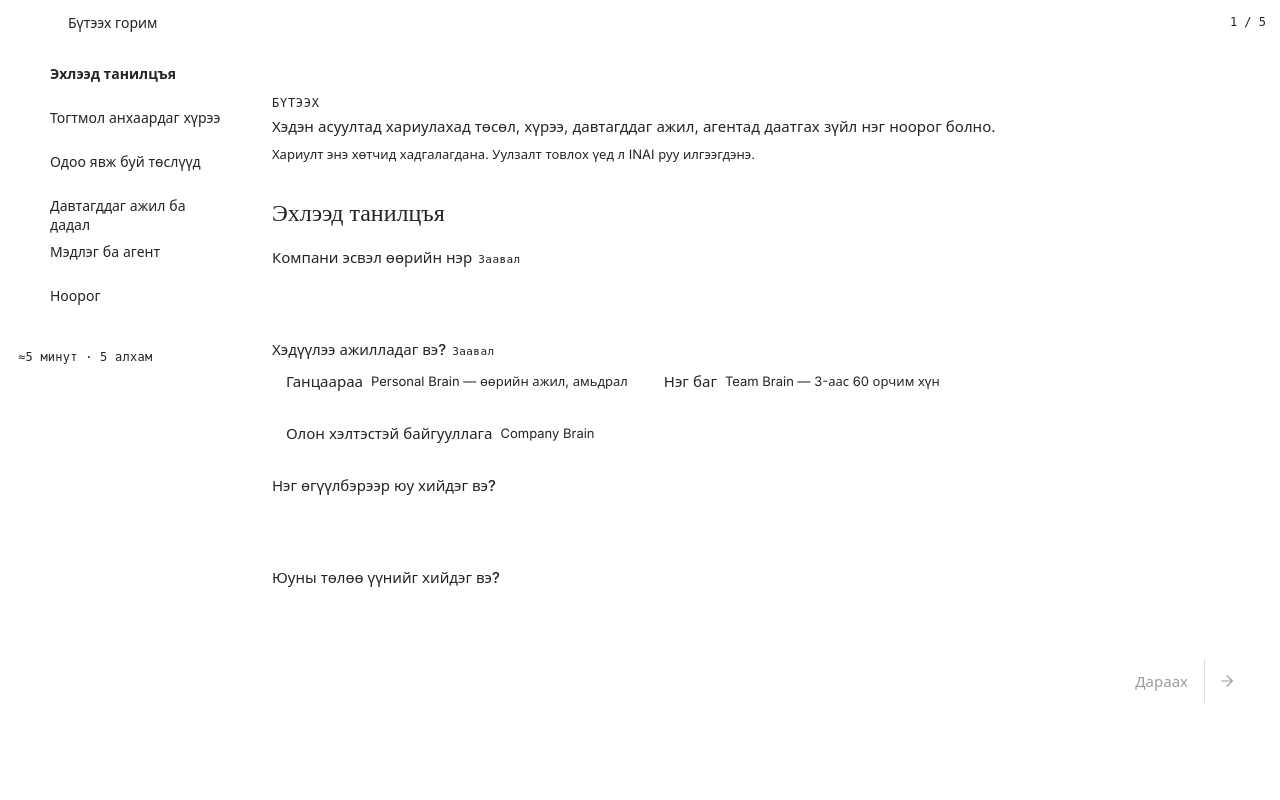
Test: BuildWizard (recipe v05, adaptive) › personal = 5 steps, team and company = 7; the time line follows the segment
The width and height of the screenshot is (1280, 800).
Expected: the text "≈5 минут · 5 алхам" is shown, [18, 350, 152, 364]
Click the radio button labelled "Нэг баг Team Brain — 3-аас 60 орчим хүн".
click(802, 382)  # box [664, 372, 940, 391]
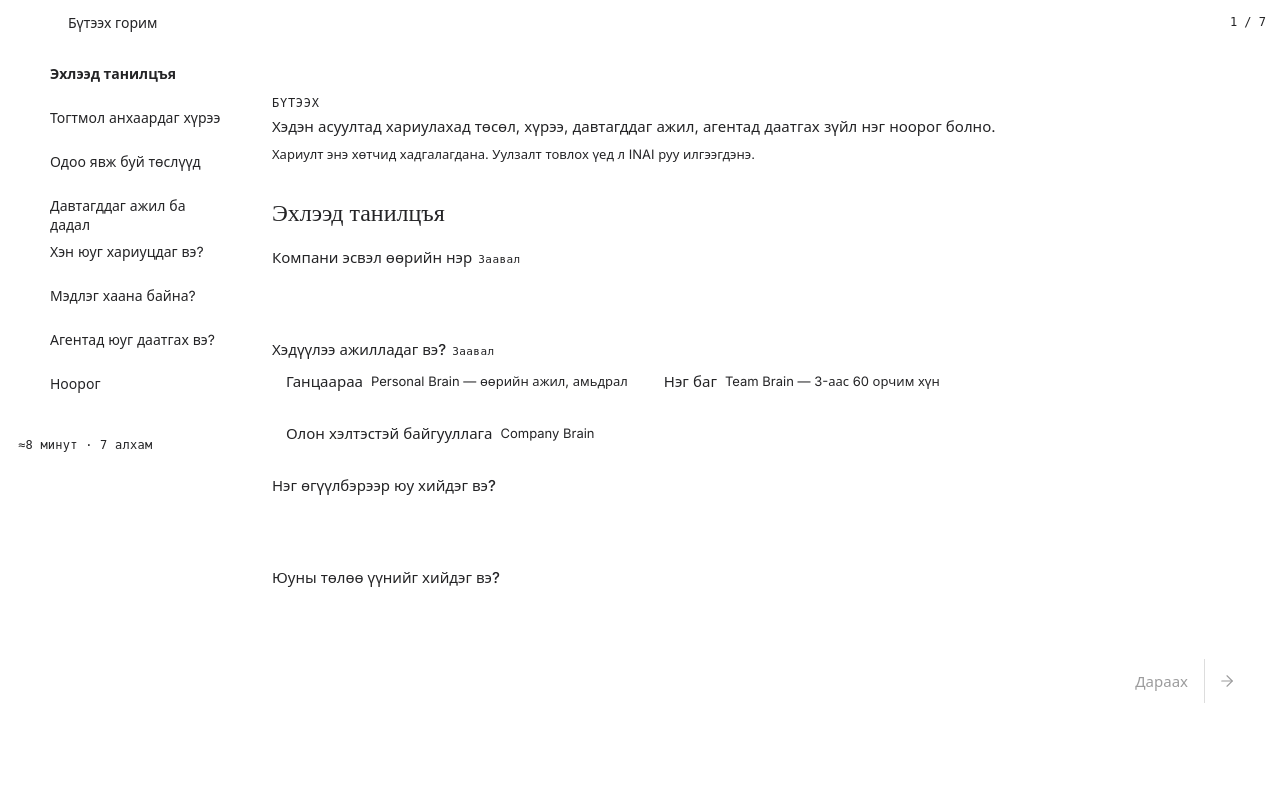
Now the text "≈8 минут · 7 алхам" is shown, box [18, 438, 152, 452]
